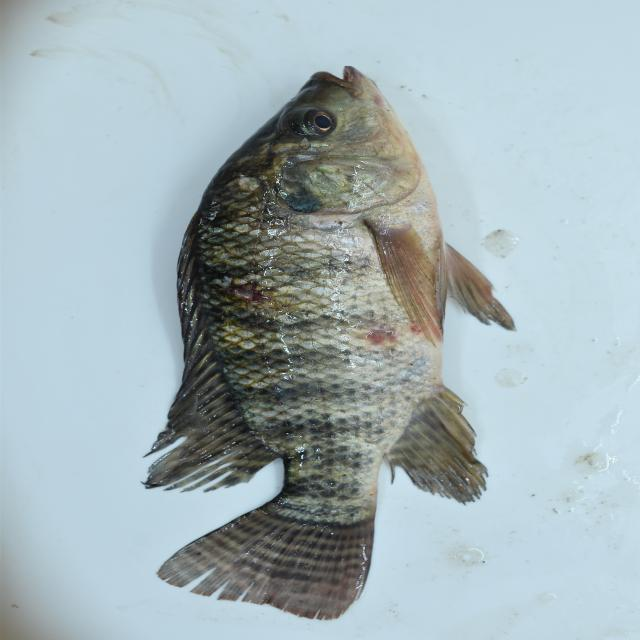Columnaris Disease: (144, 49, 524, 628)
